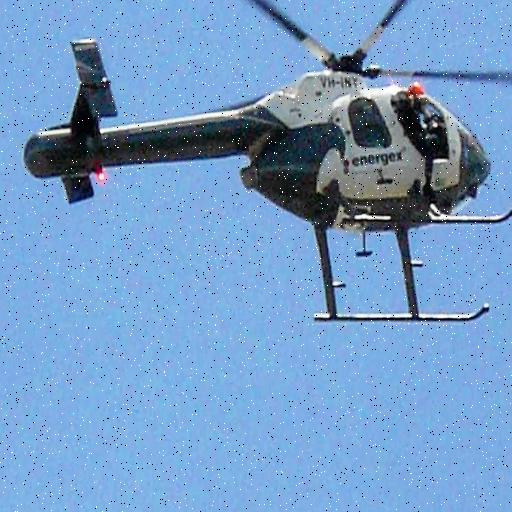helicopter: (22, 1, 512, 330)
